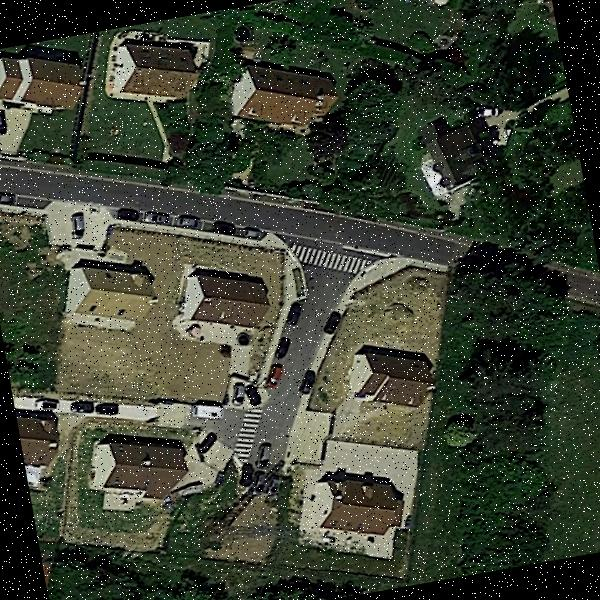Buildings: (227, 52, 348, 142), (93, 425, 189, 508), (106, 33, 202, 107), (180, 261, 274, 332), (311, 471, 401, 542), (64, 258, 166, 320), (415, 114, 487, 192), (342, 344, 428, 409), (0, 48, 81, 113), (17, 416, 63, 470), (376, 0, 481, 12)
